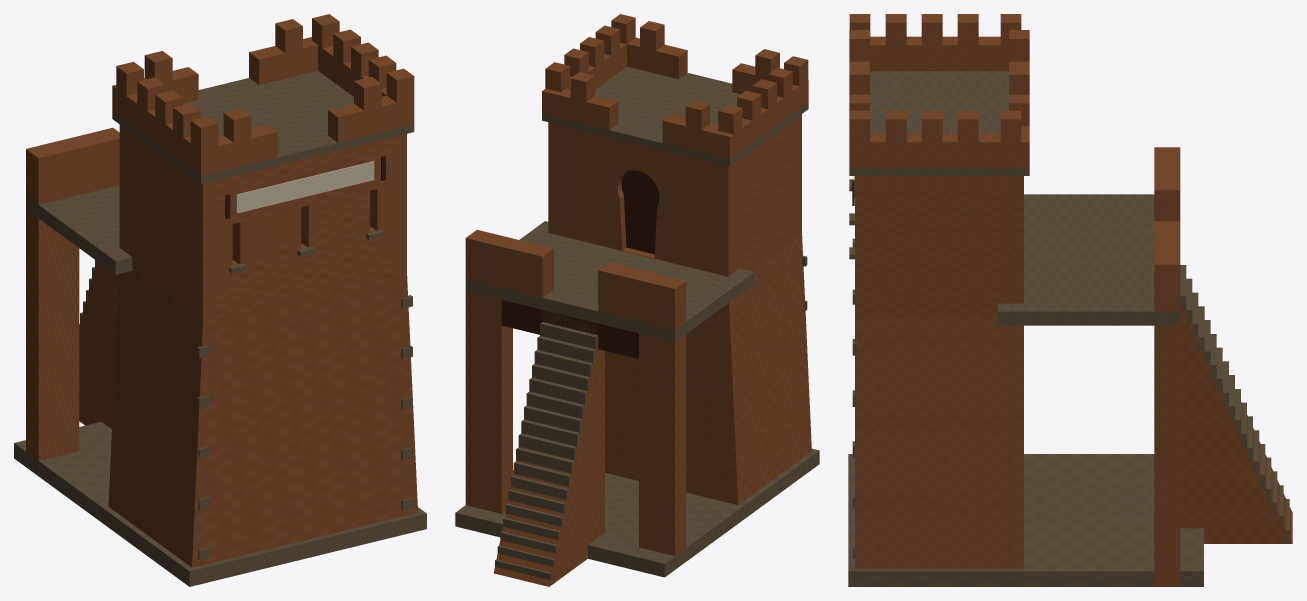
File: Berber_WallTower_Age2_arrow.fbx
3 renders of one model, left to right at view 1: azimuth 30°, elevation 25°; view 2: azimuth 150°, elevation 25°; view 3: azimuth 270°, elevation 25°, orthographic. The views are drawn at different scales.
Visible parts, largest first — view 1: battered_front_tower, front_upper_chamber, rear_support_west, ground_stone_plinth, roof_platform, rear_walk_parapet, stair_ramp_support, through_walk_deck, roof_side_parapet, owner_front_banner, roof_front_split_parapet.003, roof_front_split_parapet.001 (+17 smaller); view 2: battered_front_tower, front_upper_chamber, rear_support_west, through_walk_deck, rear_support_east, ground_stone_plinth, stair_ramp_support, roof_platform, rear_walk_parapet_east, rear_walk_parapet, rear_bearer, rear_horseshoe_chamber_door (+38 smaller); view 3: battered_front_tower, front_upper_chamber, ground_stone_plinth, through_walk_deck, stair_ramp_support, roof_platform, rear_support_east, roof_side_parapet.001, roof_side_parapet, rear_walk_parapet_east, rear_walk_parapet, roof_side_merlon.006 (+11 smaller).
Boxes of the visible parts, bbox=[...] form: battered_front_tower: bbox=[108, 271, 417, 567]; front_upper_chamber: bbox=[119, 125, 406, 322]; rear_support_west: bbox=[26, 209, 79, 474]; ground_stone_plinth: bbox=[14, 422, 426, 586]; roof_platform: bbox=[112, 71, 414, 183]; rear_walk_parapet: bbox=[26, 127, 119, 204]; stair_ramp_support: bbox=[79, 262, 118, 429]; through_walk_deck: bbox=[26, 185, 132, 274]; roof_side_parapet: bbox=[112, 85, 218, 176]; owner_front_banner: bbox=[236, 161, 374, 213]; roof_front_split_parapet.003: bbox=[249, 38, 317, 84]; roof_front_split_parapet.001: bbox=[328, 95, 396, 142]; battered_front_tower: bbox=[605, 235, 811, 504]; front_upper_chamber: bbox=[548, 114, 801, 276]; rear_support_west: bbox=[639, 333, 686, 555]; through_walk_deck: bbox=[465, 221, 754, 341]; rear_support_east: bbox=[465, 291, 512, 513]; ground_stone_plinth: bbox=[455, 448, 819, 577]; stair_ramp_support: bbox=[494, 340, 604, 586]; roof_platform: bbox=[542, 66, 808, 166]; rear_walk_parapet_east: bbox=[465, 230, 553, 297]; rear_walk_parapet: bbox=[598, 262, 686, 329]; rear_bearer: bbox=[501, 300, 638, 358]; rear_horseshoe_chamber_door: bbox=[621, 170, 659, 254]; battered_front_tower: bbox=[855, 317, 1023, 568]; front_upper_chamber: bbox=[855, 176, 1023, 317]; ground_stone_plinth: bbox=[848, 454, 1203, 586]; through_walk_deck: bbox=[998, 194, 1180, 325]; stair_ramp_support: bbox=[1180, 310, 1292, 543]; roof_platform: bbox=[849, 71, 1029, 175]; rear_support_east: bbox=[1154, 325, 1180, 586]; roof_side_parapet.001: bbox=[849, 133, 1029, 168]; roof_side_parapet: bbox=[870, 36, 1008, 71]; rear_walk_parapet_east: bbox=[1154, 221, 1180, 311]; rear_walk_parapet: bbox=[1154, 147, 1180, 221]; roof_side_merlon.006: bbox=[885, 110, 906, 142].
Bounding box in the file's own units: 640 × 1174 × 1024.
Materials: 5 (5 with a texture image).
